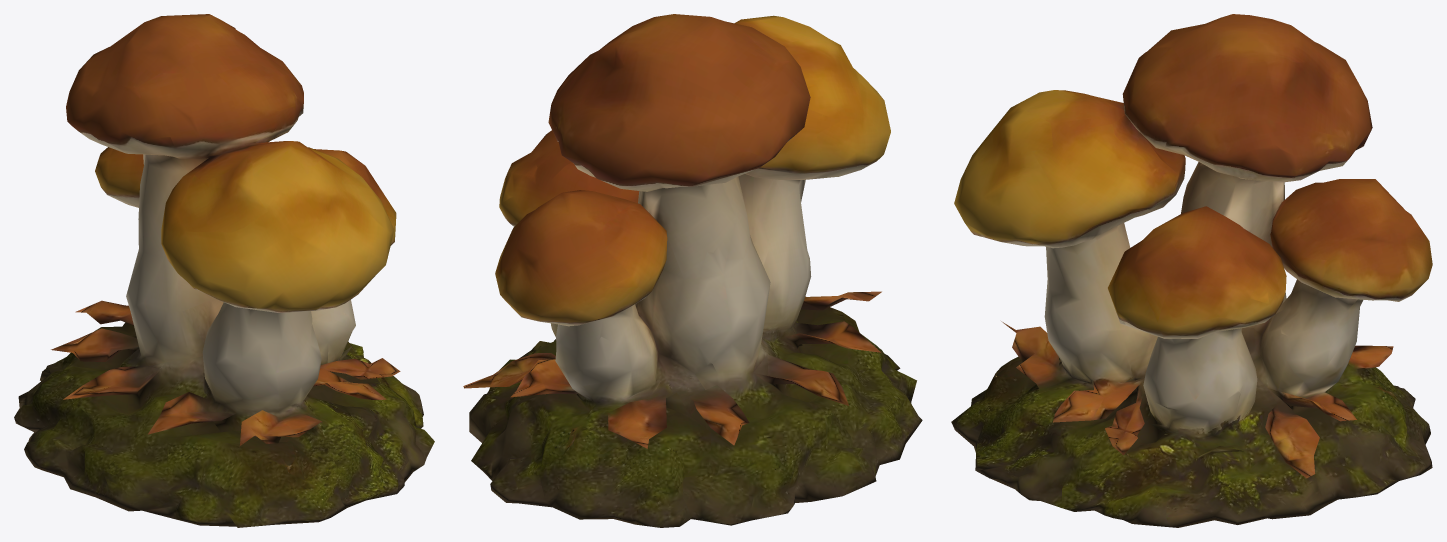
File: mushroom.glb
3 views of the same model, side by side, from view 1: azimuth 30°, elevation 25°; view 2: azimuth 150°, elevation 25°; view 3: azimuth 270°, elevation 25° (orthographic). The views are drawn at different scales.
Visible parts, largest first — view 1: tripo_node_db68e48f-b152-493a-bca1-9fffd3ba3b5b; view 2: tripo_node_db68e48f-b152-493a-bca1-9fffd3ba3b5b; view 3: tripo_node_db68e48f-b152-493a-bca1-9fffd3ba3b5b.
Boxes of the visible parts, box(x1,y1,x2,y2) form: tripo_node_db68e48f-b152-493a-bca1-9fffd3ba3b5b: box(14, 14, 434, 527); tripo_node_db68e48f-b152-493a-bca1-9fffd3ba3b5b: box(463, 14, 922, 527); tripo_node_db68e48f-b152-493a-bca1-9fffd3ba3b5b: box(951, 14, 1432, 527).
Size of the model in its own units: 0.4264 by 0.46 by 0.4848.
Materials: 1 (1 with a texture image).
